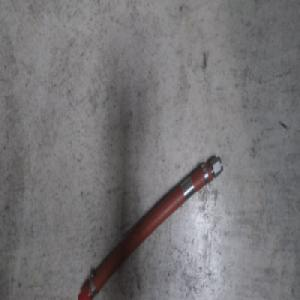Hose: (76, 151, 223, 300)
